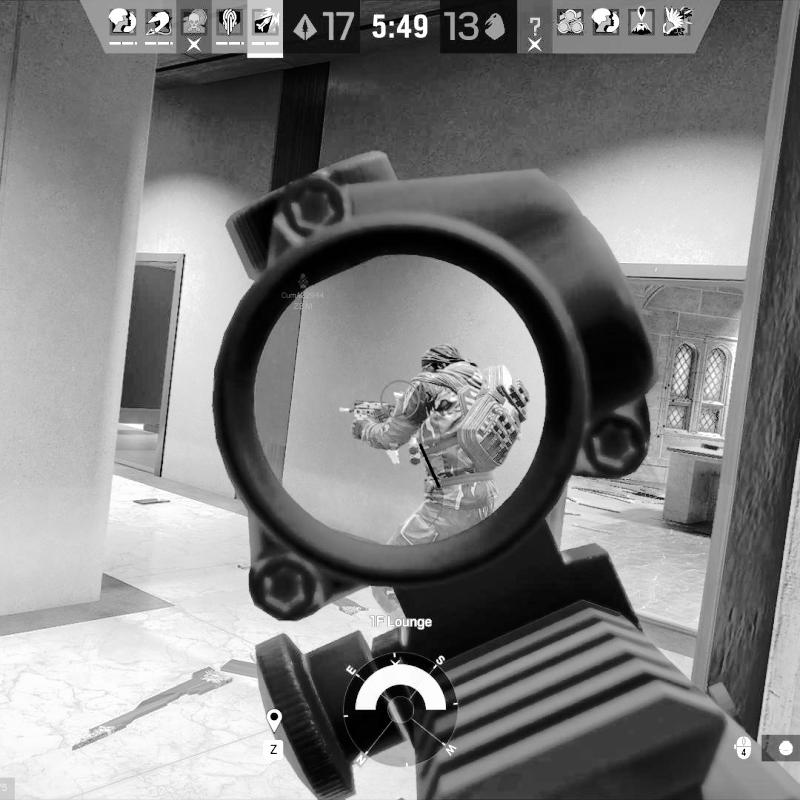Character: (346, 340, 531, 547)
Head: (415, 341, 464, 373)
